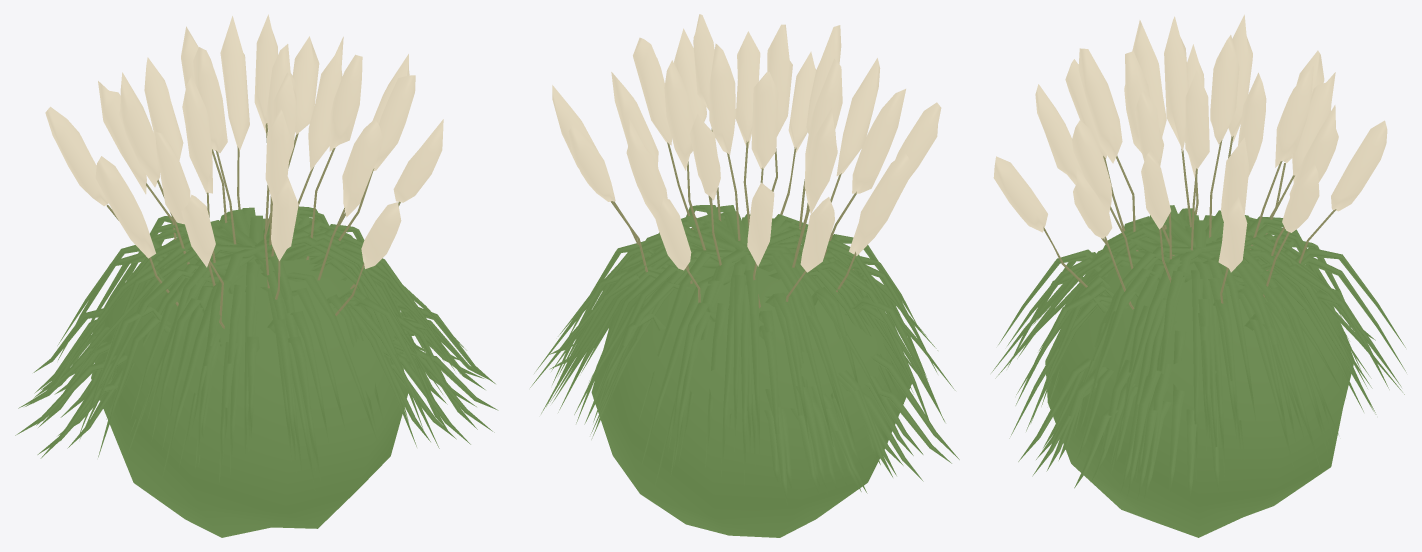
File: Blender_PampasGrass_2.glb
3 renders of one model, left to right at view 1: azimuth 30°, elevation 25°; view 2: azimuth 150°, elevation 25°; view 3: azimuth 270°, elevation 25°, orthographic. The views are drawn at different scales.
Parts seen in each view (by area): view 1: Blender_PampasGrass_2; view 2: Blender_PampasGrass_2; view 3: Blender_PampasGrass_2.
Part boxes in pixels (x1=…): Blender_PampasGrass_2: x1=15, y1=14, x2=498, y2=537; Blender_PampasGrass_2: x1=530, y1=14, x2=959, y2=537; Blender_PampasGrass_2: x1=991, y1=14, x2=1406, y2=537.
Size of the model in its own units: 2.93 by 3.15 by 2.58.
